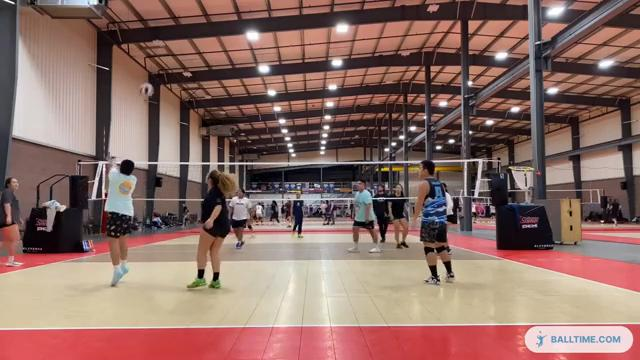ricezione: (99, 148, 138, 290)
